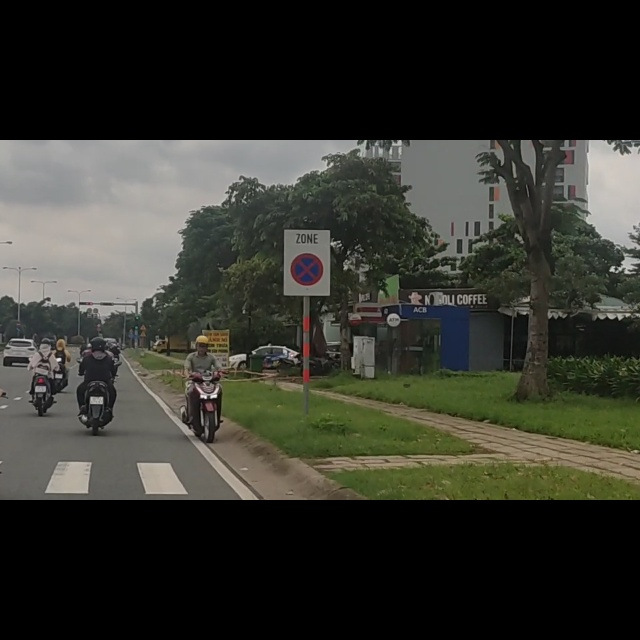bien_cam: (291, 201, 323, 260), (16, 332, 22, 341), (16, 322, 21, 332)
